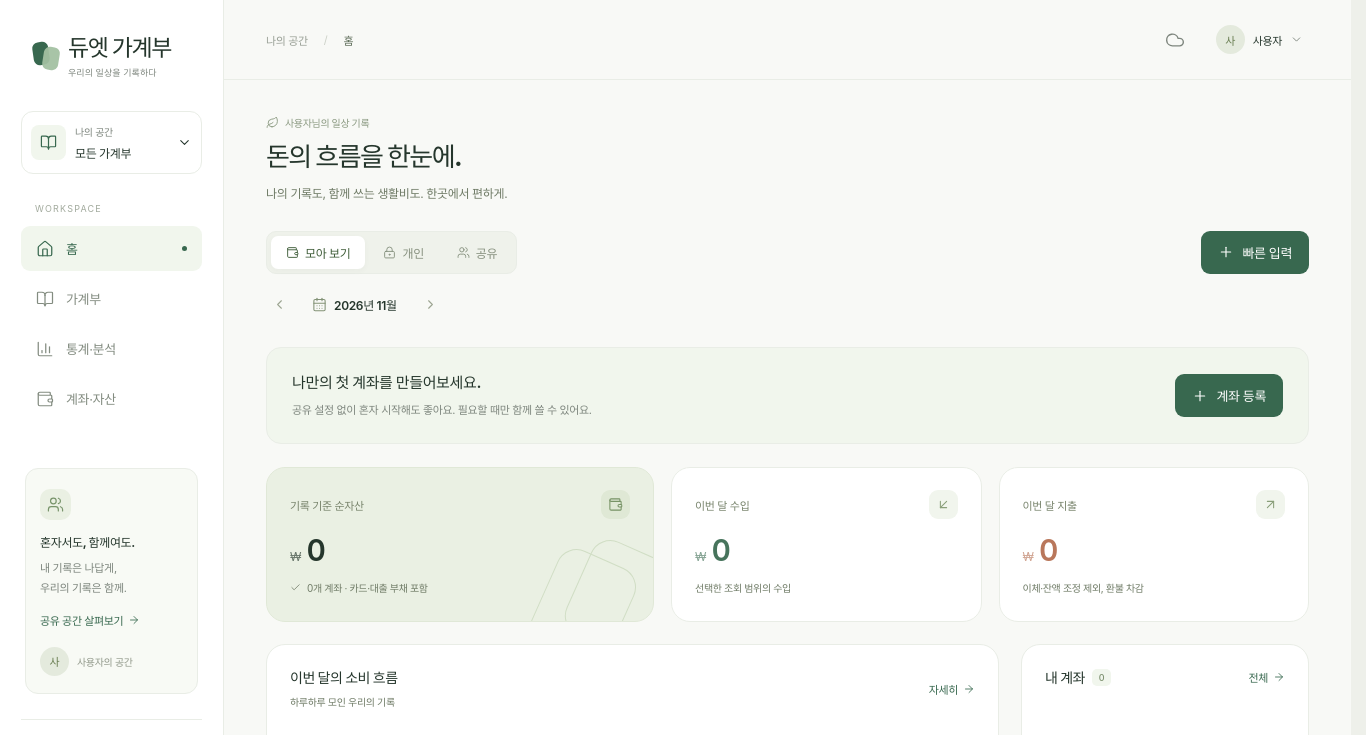
Test: places the desktop action beside scope tabs on home
Click the button "빠른 입력" at (1255, 252), box x1=1201 y1=231 x2=1309 y2=274
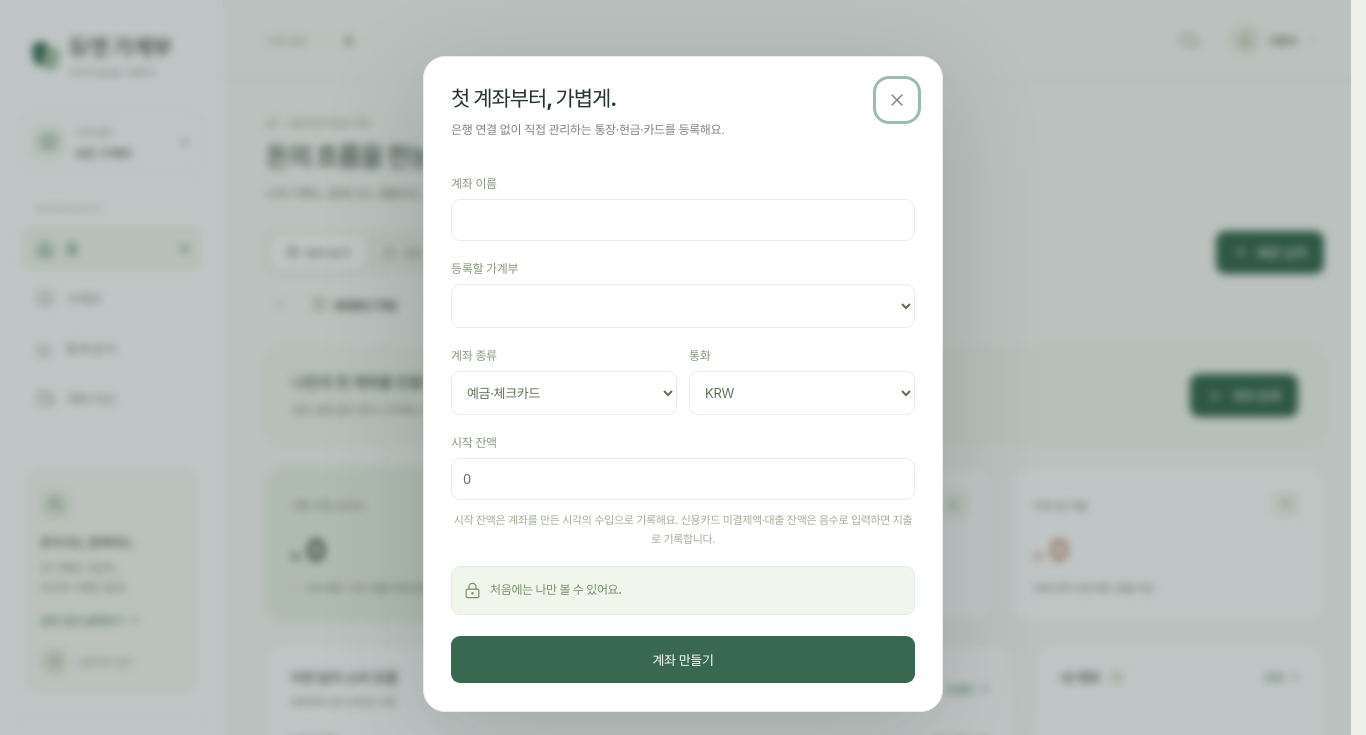
Now the dialog is shown, box x1=423 y1=56 x2=943 y2=712
